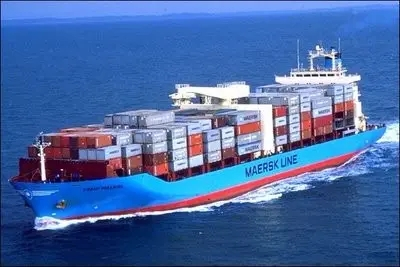Cargoship: (6, 38, 388, 225)
